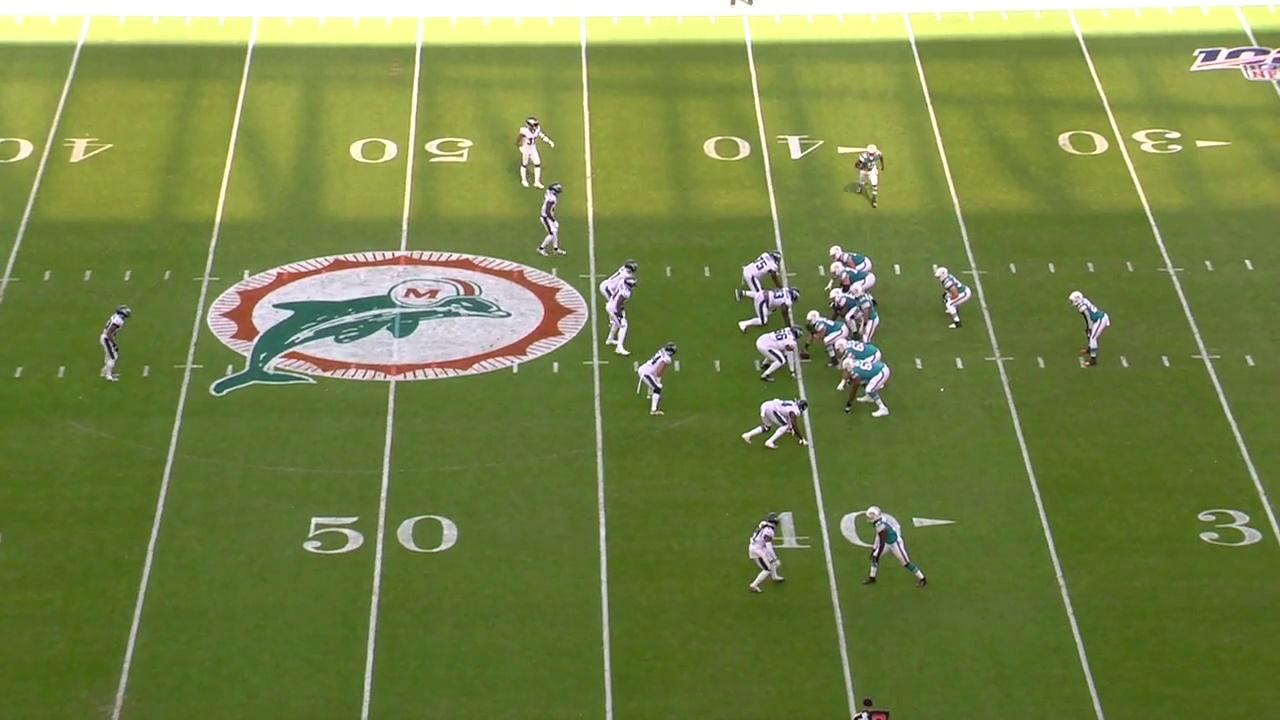player: (855, 505, 933, 592), (89, 305, 140, 388), (745, 396, 811, 451), (827, 336, 888, 391), (1071, 285, 1108, 372), (747, 512, 787, 590), (636, 344, 678, 417), (840, 359, 894, 415), (534, 180, 573, 257), (519, 110, 556, 187), (740, 285, 802, 330), (761, 324, 809, 379), (736, 247, 786, 298), (853, 138, 884, 219), (611, 280, 642, 359), (801, 310, 849, 361), (824, 244, 872, 292), (831, 264, 879, 311), (936, 265, 971, 328), (850, 284, 882, 346), (597, 259, 639, 306), (830, 288, 867, 335)
